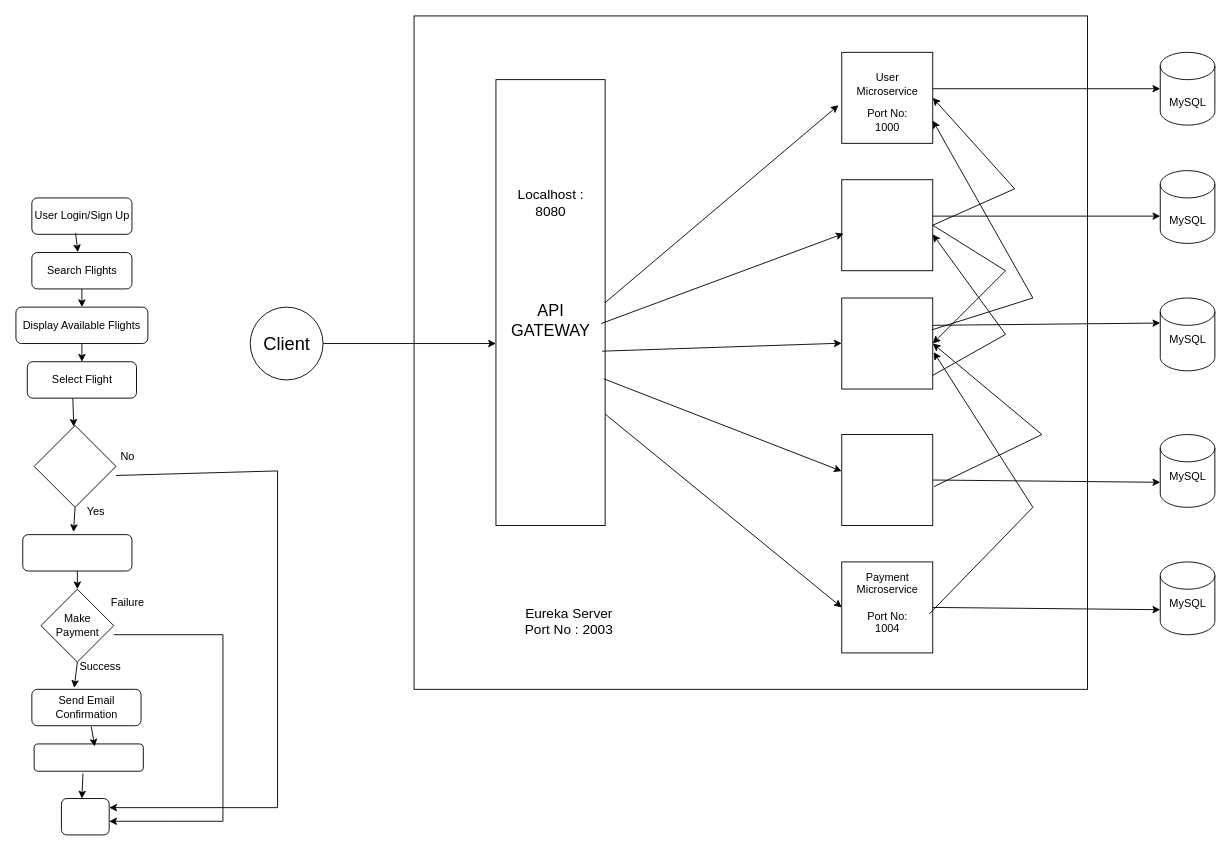
Image size: 1231x851. Some labels were removed from this diagram. Each missing label, with the centre of its shape:
"Booking Microservice Port No: 1002" goes at point 887,343.
"Check SeatAvailability" goes at point 74,466.
"CheckIn" goes at point 88,757.
"CheckIn Microservice Port No: 1003" goes at point 887,480.
"End" goes at point 85,816.
"Flight Microservice Port No: 1001" goes at point 887,225.
"Make Booking , Enter Passenger Details" goes at point 77,552.
